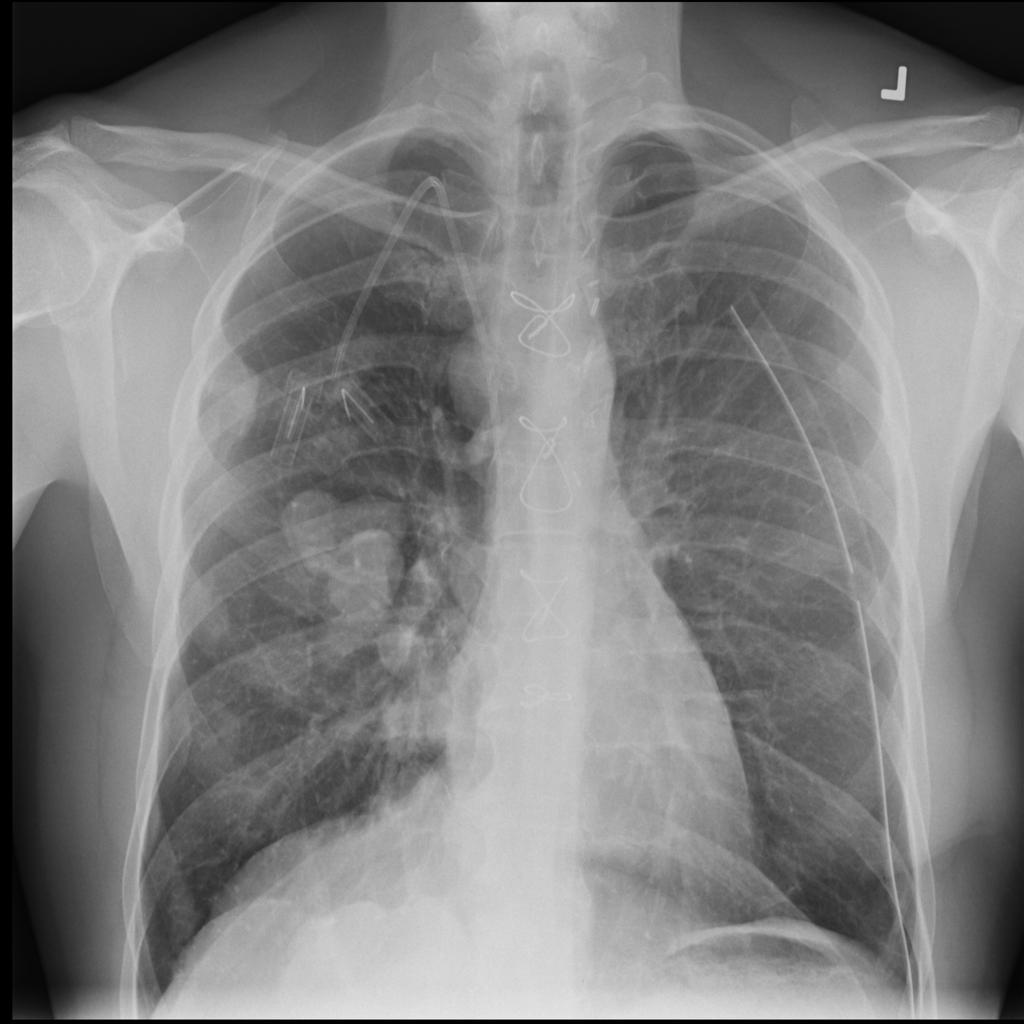nodule: (308, 521, 419, 616), (278, 481, 350, 568), (369, 611, 435, 682)
